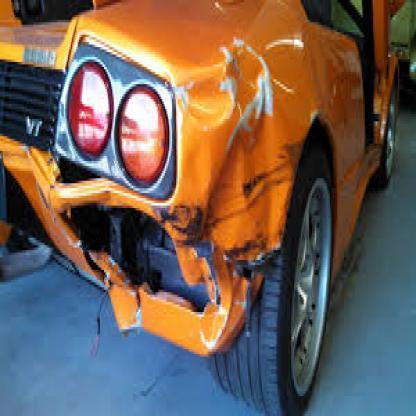dent: (190, 77, 266, 233)
